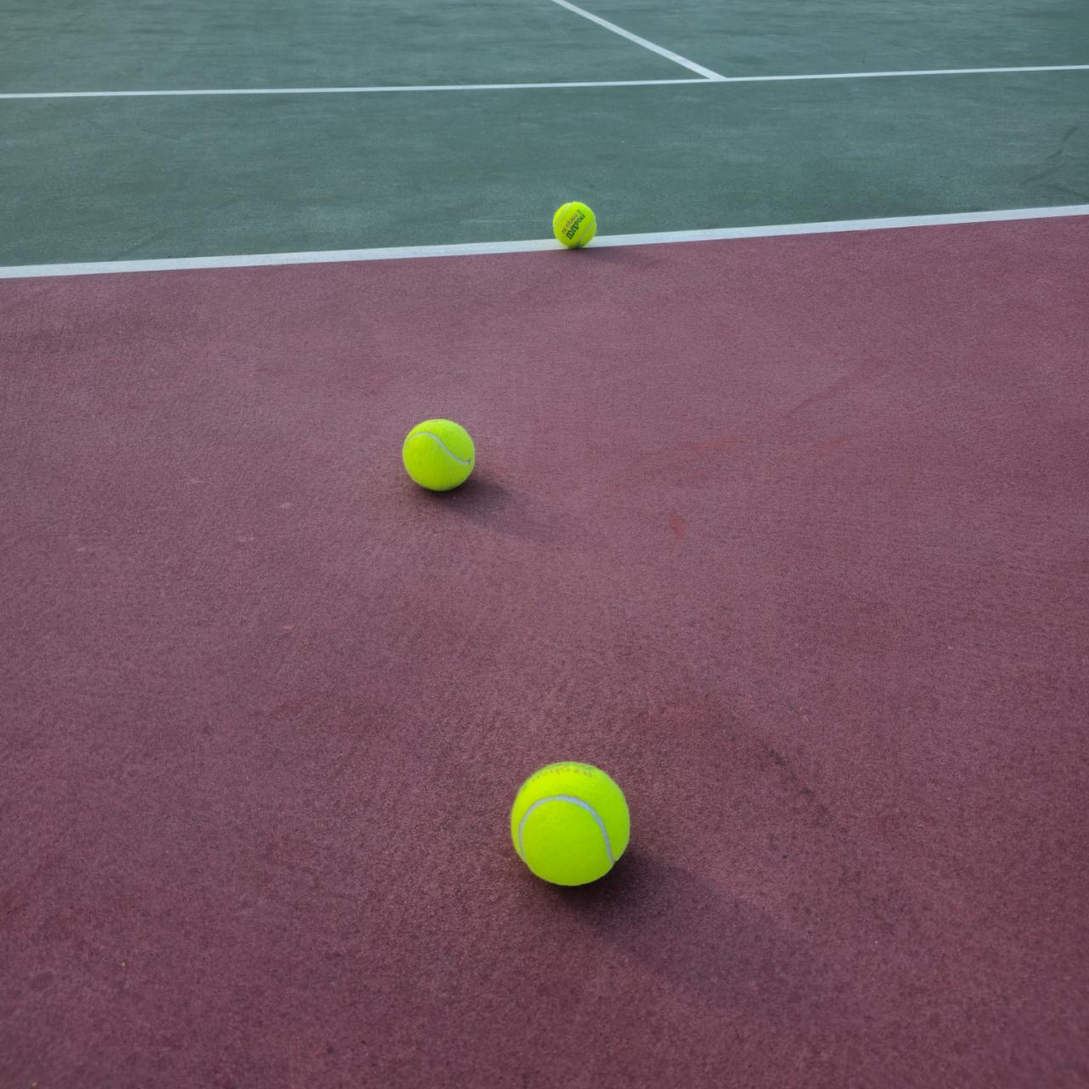tennis-ball: (508, 757, 634, 888), (402, 414, 478, 493), (552, 201, 597, 249)
